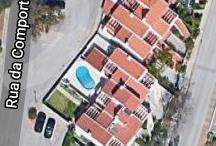pool: (75, 68, 95, 88)
